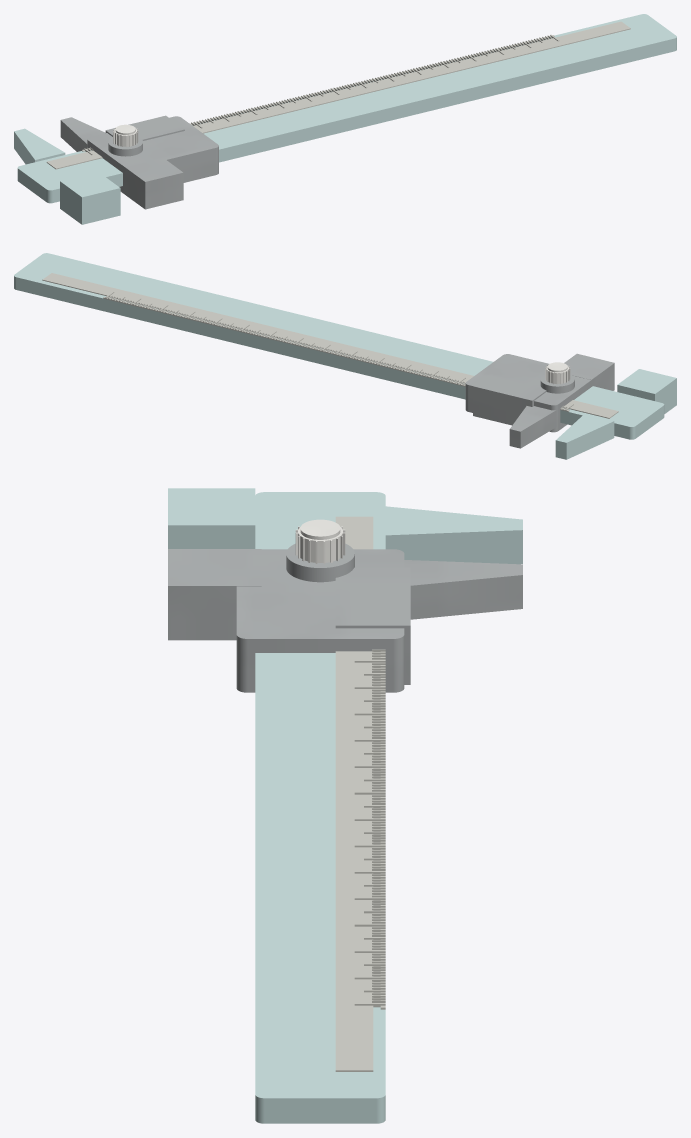
Rendered from Handtools_dial_caliper__0056.glb.
3 views of the same model, one above another, from view 1: azimuth 30°, elevation 25°; view 2: azimuth 150°, elevation 25°; view 3: azimuth 270°, elevation 25° (orthographic). The views are drawn at different scales.
Visible parts, largest first — view 1: beam::beam_body, slider::slider_body, beam::beam_scale, beam::fixed_jaw, beam::main_scale_ticks, lock_screw::lock_screw_head, slider::lock_screw_boss; view 2: beam::beam_body, slider::slider_body, beam::beam_scale, beam::fixed_jaw, beam::main_scale_ticks, lock_screw::lock_screw_head, slider::lock_screw_boss; view 3: beam::beam_body, slider::slider_body, beam::beam_scale, beam::fixed_jaw, beam::main_scale_ticks, lock_screw::lock_screw_head, slider::lock_screw_boss.
Part boxes in pixels (<box>): beam::beam_body: <box>17,14,676,203</box>; slider::slider_body: <box>60,115,218,209</box>; beam::beam_scale: <box>46,21,630,169</box>; beam::fixed_jaw: <box>14,128,120,224</box>; beam::main_scale_ticks: <box>81,34,559,154</box>; lock_screw::lock_screw_head: <box>113,124,138,147</box>; slider::lock_screw_boss: <box>108,137,142,156</box>; beam::beam_body: <box>14,253,664,439</box>; slider::slider_body: <box>465,353,614,448</box>; beam::beam_scale: <box>42,273,618,418</box>; beam::fixed_jaw: <box>555,369,676,459</box>; beam::main_scale_ticks: <box>103,291,573,411</box>; lock_screw::lock_screw_head: <box>545,362,570,384</box>; slider::lock_screw_boss: <box>540,374,574,393</box>; beam::beam_body: <box>255,492,385,1123</box>; slider::slider_body: <box>168,549,522,692</box>; beam::beam_scale: <box>335,516,373,1071</box>; beam::fixed_jaw: <box>168,488,522,564</box>; beam::main_scale_ticks: <box>354,649,385,1009</box>; lock_screw::lock_screw_head: <box>295,519,345,563</box>; slider::lock_screw_boss: <box>286,543,354,582</box>.
Bounding box in the file's own units: 0.2296 × 0.017 × 0.0569.
5 materials, 2 textured.
